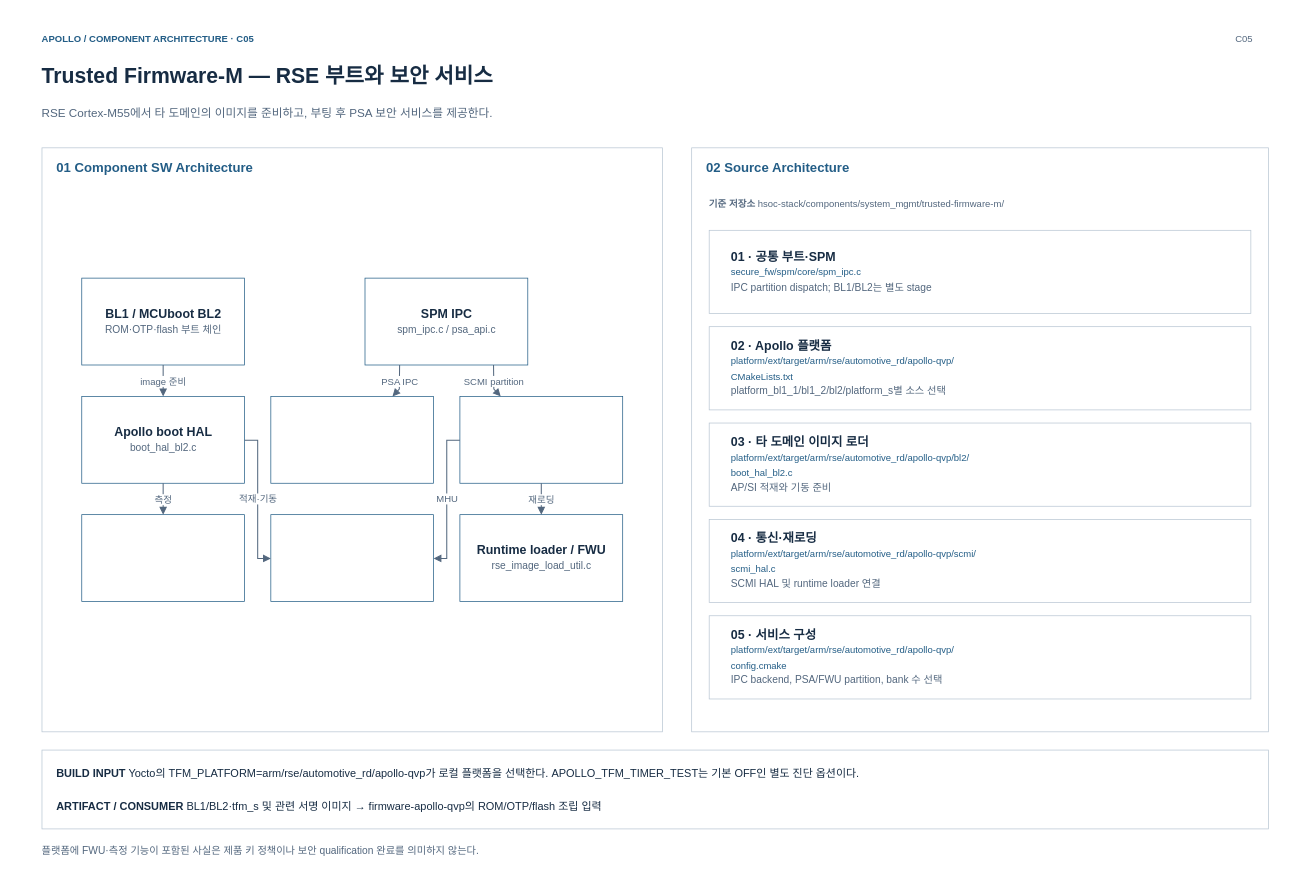
The diagram is 1310 pixels wide and 886 high, and some of its shapes have lost their labels. Here are the shapes that lost their labels. From the top down, the centre of each, then its label:
point 352,439: PSA partitions Crypto · ITS · PS · Attestation
point 541,439: SCMI service scmi_ hal.c / scmi_ power_ domain.c
point 163,558: Boot measurements tfm_ plat_ boot_ measurement.c
point 352,558: Platform HAL ATU · MHUv3 · flash · OTP
